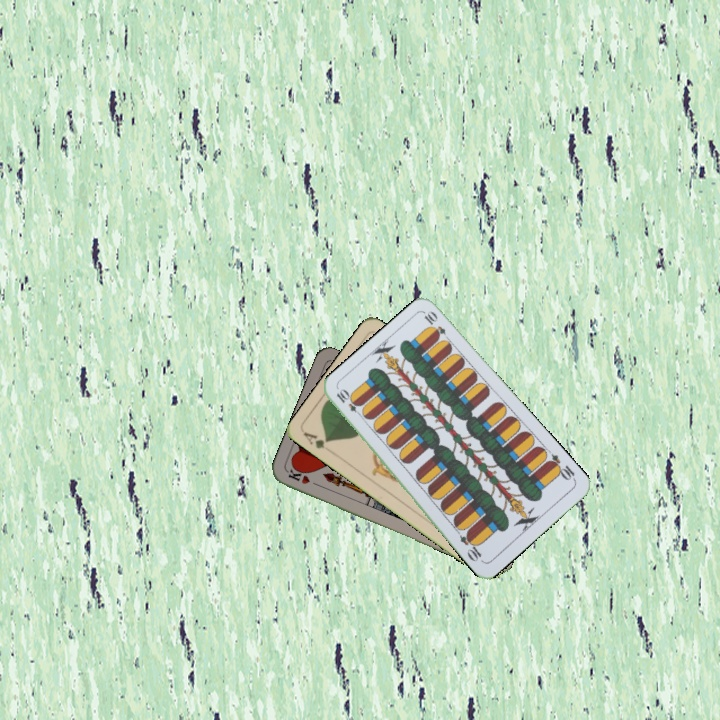E10: (332, 385, 366, 420), (543, 450, 578, 484)
GA: (300, 428, 332, 451)
HK: (284, 465, 323, 489)
